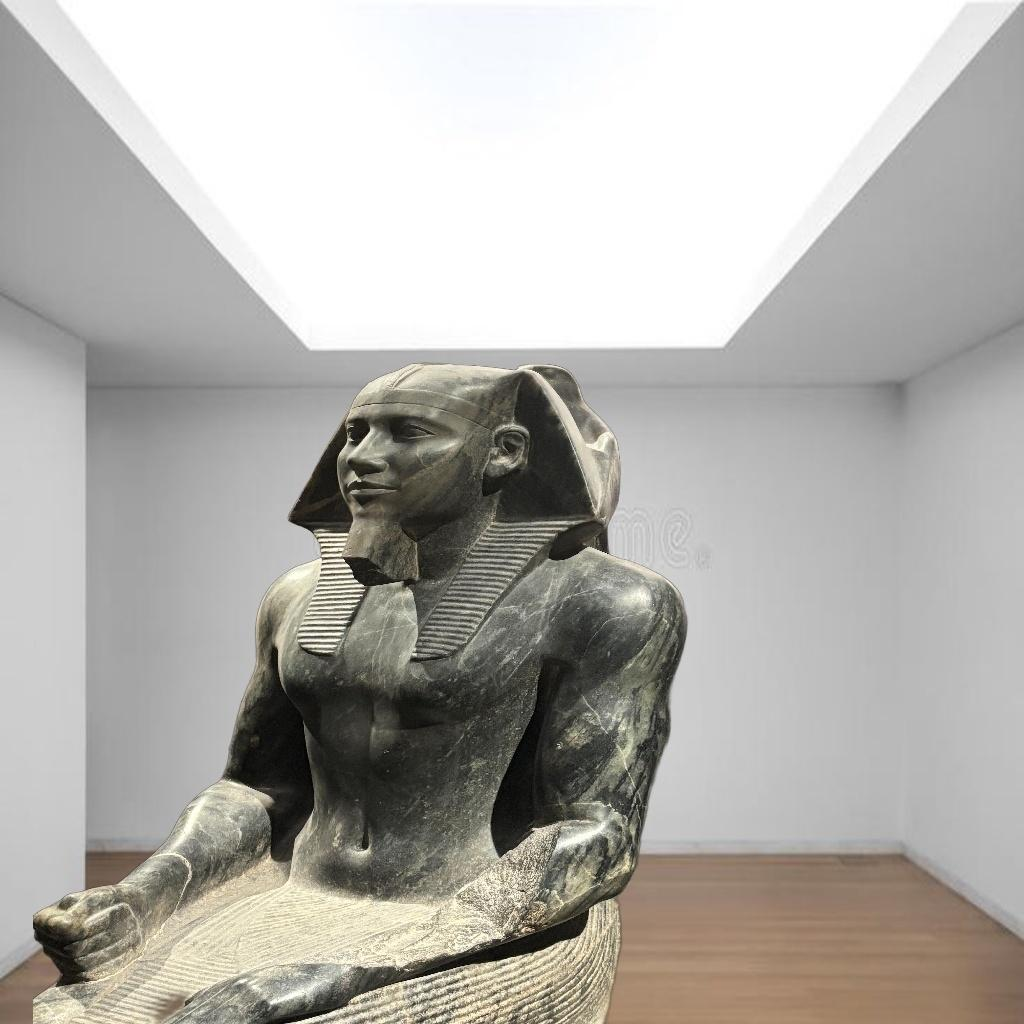Statue of Khafre: (34, 362, 696, 1024)
